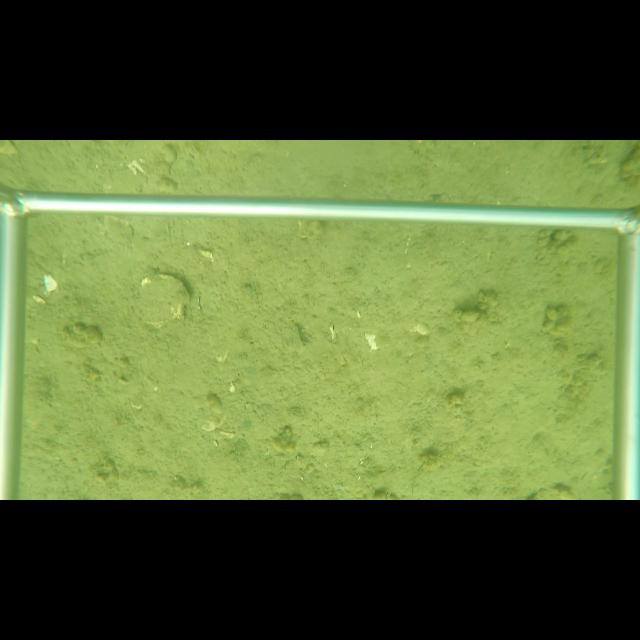Oyster-Closed: (134, 273, 191, 330)
